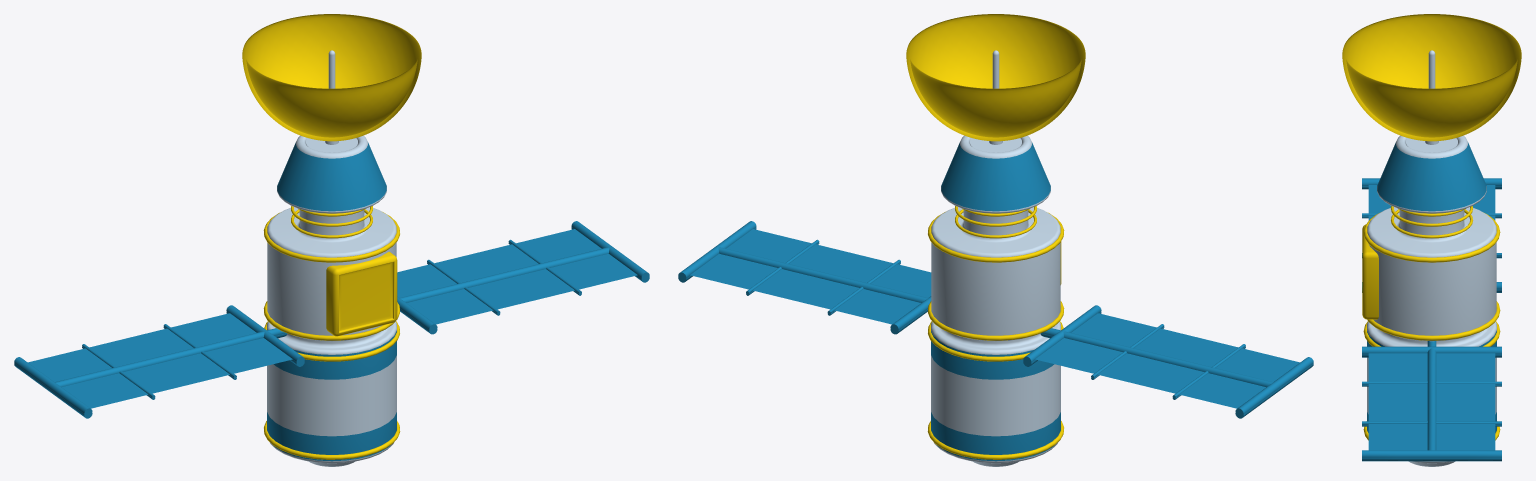
Rendered from Satelite.gltf.
The picture shows the model from 3 angles, left to right: view 1: azimuth 30°, elevation 25°; view 2: azimuth 150°, elevation 25°; view 3: azimuth 270°, elevation 25°; orthographic projection.
Parts seen in each view (by area): view 1: PanneauxSolaires (×2), Satélite-Mat, Anténe, Satélite-Mat.1, Panneau, Tore.6; view 2: PanneauxSolaires (×2), Satélite-Mat, Anténe, Satélite-Mat.1, Tore.6; view 3: Anténe, PanneauxSolaires (×2), Satélite-Mat, Satélite-Mat.1, Tore.6, Panneau.
Part boxes in pixels (left/top/right/bottom): PanneauxSolaires (×2): left=14, top=221, right=649, bottom=418; Satélite-Mat: left=267, top=50, right=396, bottom=466; Anténe: left=242, top=14, right=421, bottom=141; Satélite-Mat.1: left=267, top=142, right=396, bottom=461; Panneau: left=326, top=251, right=397, bottom=336; Tore.6: left=263, top=206, right=400, bottom=459; PanneauxSolaires (×2): left=678, top=221, right=1313, bottom=418; Satélite-Mat: left=931, top=50, right=1060, bottom=466; Anténe: left=906, top=14, right=1085, bottom=141; Satélite-Mat.1: left=931, top=142, right=1060, bottom=461; Tore.6: left=927, top=206, right=1064, bottom=459; Anténe: left=1342, top=14, right=1521, bottom=141; PanneauxSolaires (×2): left=1362, top=178, right=1501, bottom=461; Satélite-Mat: left=1367, top=50, right=1496, bottom=466; Satélite-Mat.1: left=1367, top=142, right=1496, bottom=432; Tore.6: left=1363, top=206, right=1500, bottom=440; Panneau: left=1362, top=224, right=1378, bottom=319.
Bounding box in the file's own units: 173 × 119 × 47.56.
